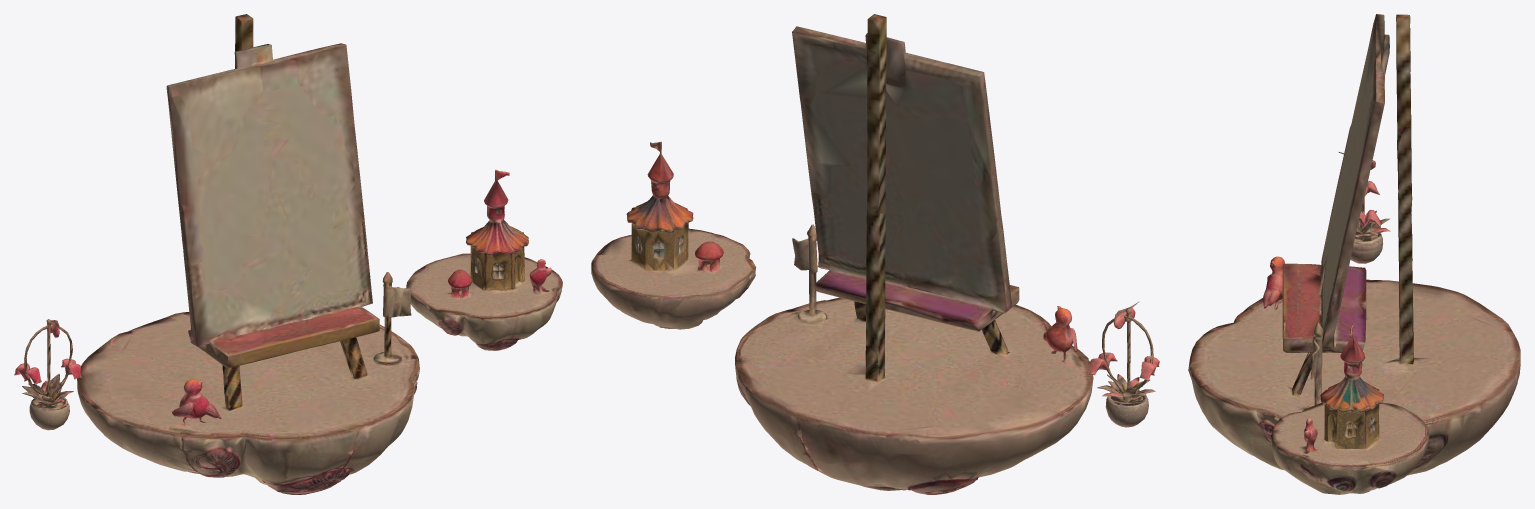
File: chroma-easel-island.glb
3 views of the same model, side by side, from view 1: azimuth 30°, elevation 25°; view 2: azimuth 150°, elevation 25°; view 3: azimuth 270°, elevation 25° (orthographic). The views are drawn at different scales.
Bounding box in the file's own units: 1.9 × 1.51 × 1.01.
1 material, 1 textured.
